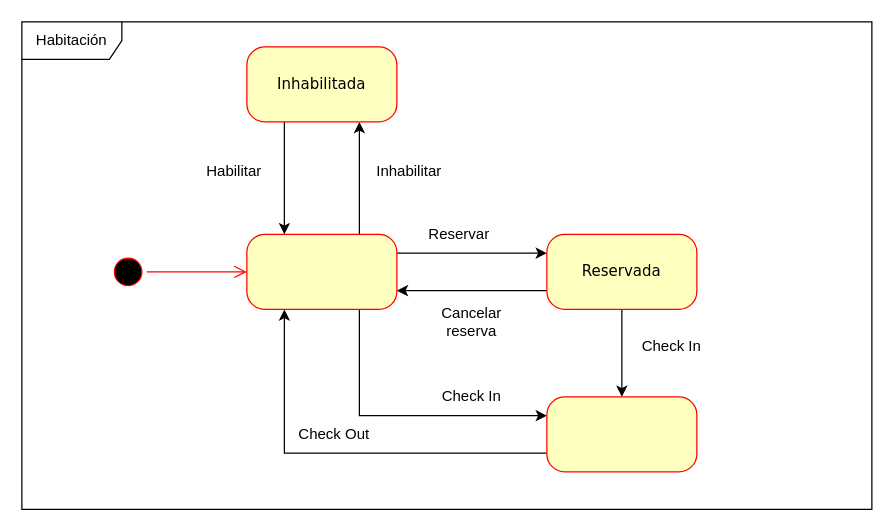
Some shapes in this 894 by 531 pixel diagram are drawn without their labels. Here are the shapes that lost their labels. From the top down, the box of each, then its label:
(246, 233, 397, 309): Desocupada
(546, 396, 697, 472): Ocupada
